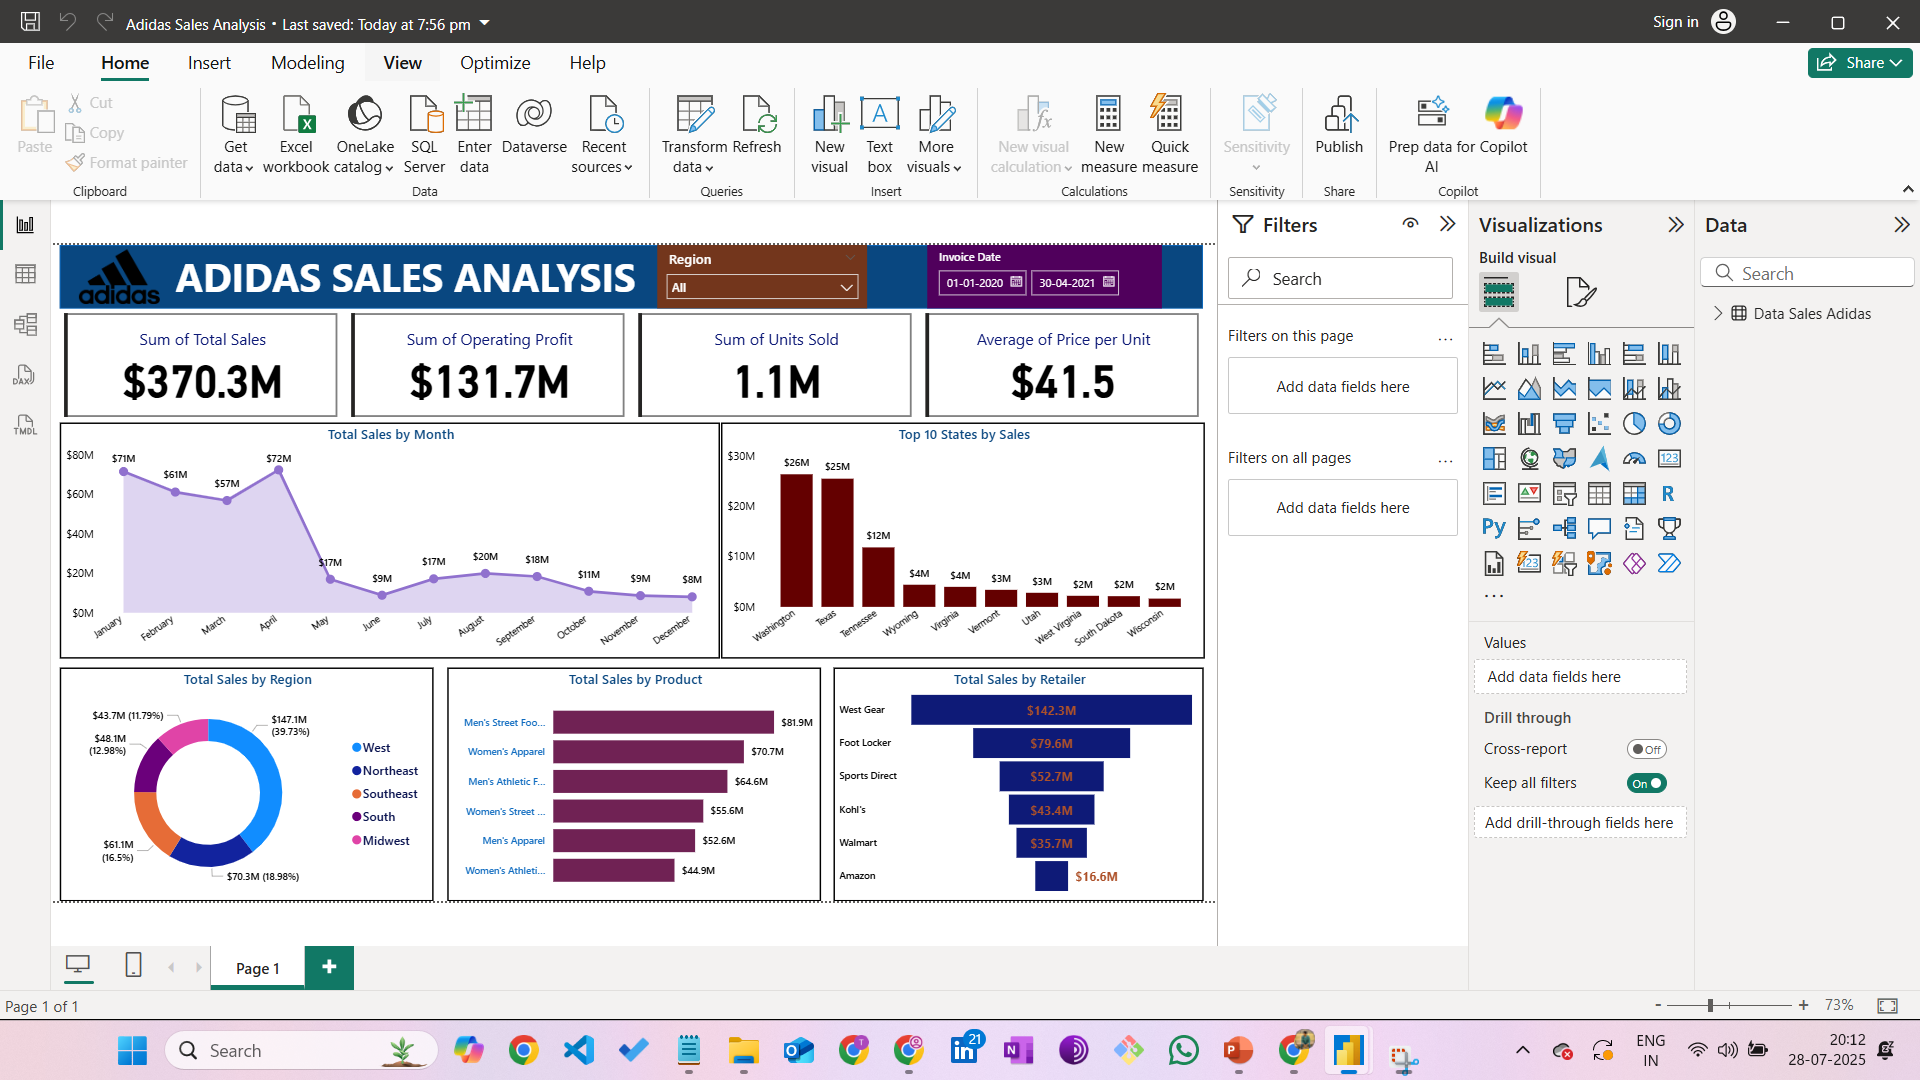

What the dashboard file says about the page in this screenshot:
{"tool":"powerbi","page":{"name":"Page 1","canvas":[1280,720],"ordinal":0},"visuals":[{"type":"shape","box":[10,0,1255,70],"z":0},{"type":"textbox","box":[131.7,0,533.8,70],"z":1000},{"type":"cardVisual","fields":{"Data":["Sum(Data Sales Adidas.Total Sales)","Sum(Data Sales Adidas.Operating Profit)","Sum(Data Sales Adidas.Units Sold)","Avg(Data Sales Adidas.Price per Unit)"]},"box":[9.6,70,1255.6,124.9],"z":2000},{"type":"areaChart","title":"Total Sales by Month","fields":{"Category":["Data Sales Adidas.Invoice Date.Variation.Date Hierarchy.Month"],"Y":["Sum(Data Sales Adidas.Total Sales)"]},"box":[9.6,194.9,724.5,259.3],"z":3000},{"type":"donutChart","title":"Total Sales by Region","fields":{"Category":["Data Sales Adidas.Region"],"Y":["Sum(Data Sales Adidas.Total Sales)"]},"box":[9.6,463.8,410,256.6],"z":4000},{"type":"barChart","title":"Total Sales by Product","fields":{"Category":["Data Sales Adidas.Product"],"Y":["Sum(Data Sales Adidas.Total Sales)"]},"box":[435,463.8,410.3,256.6],"z":5000},{"type":"slicer","fields":{"Values":["Data Sales Adidas.Region"]},"box":[665.5,0,230.5,70],"z":6000},{"type":"slicer","fields":{"Values":["Data Sales Adidas.Invoice Date"]},"box":[961.9,0,258,70],"z":7000},{"type":"columnChart","title":"Top 10 States by Sales","fields":{"Category":["Data Sales Adidas.State"],"Y":["Sum(Data Sales Adidas.Total Sales)"]},"box":[735,195,531,259],"z":8000},{"type":"funnel","title":"Total Sales by Retailer","fields":{"Y":["Sum(Data Sales Adidas.Total Sales)"],"Category":["Data Sales Adidas.Retailer"]},"box":[859,463.8,406.2,256.6],"z":9000},{"type":"image","box":[17.8,0,113.9,70],"z":10000}]}

Visuals, with their boxes on the page's 1280x720 design canvas (x1, y1, x2, y2). These are canvas units, not pixel positions in the 1920x1080 screenshot, which may show the page scaled, cropped or inside an application window:
shape: <bbox>10, 0, 1265, 70</bbox>
textbox: <bbox>132, 0, 666, 70</bbox>
cardVisual - Sum(Data Sales Adidas.Total Sales) x Sum(Data Sales Adidas.Operating Profit): <bbox>10, 70, 1265, 195</bbox>
"Total Sales by Month" areaChart: <bbox>10, 195, 734, 454</bbox>
"Total Sales by Region" donutChart: <bbox>10, 464, 420, 720</bbox>
"Total Sales by Product" barChart: <bbox>435, 464, 845, 720</bbox>
slicer - Data Sales Adidas.Region: <bbox>666, 0, 896, 70</bbox>
slicer - Data Sales Adidas.Invoice Date: <bbox>962, 0, 1220, 70</bbox>
"Top 10 States by Sales" columnChart: <bbox>735, 195, 1266, 454</bbox>
"Total Sales by Retailer" funnel: <bbox>859, 464, 1265, 720</bbox>
image: <bbox>18, 0, 132, 70</bbox>
